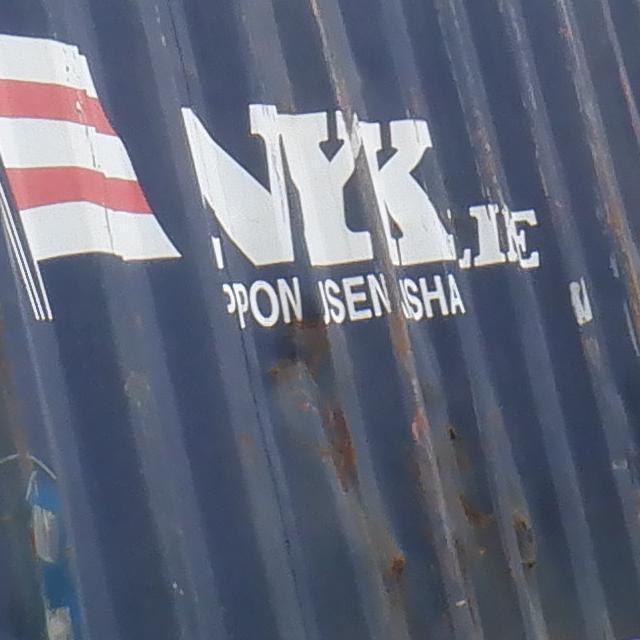rust: (237, 249, 441, 595)
